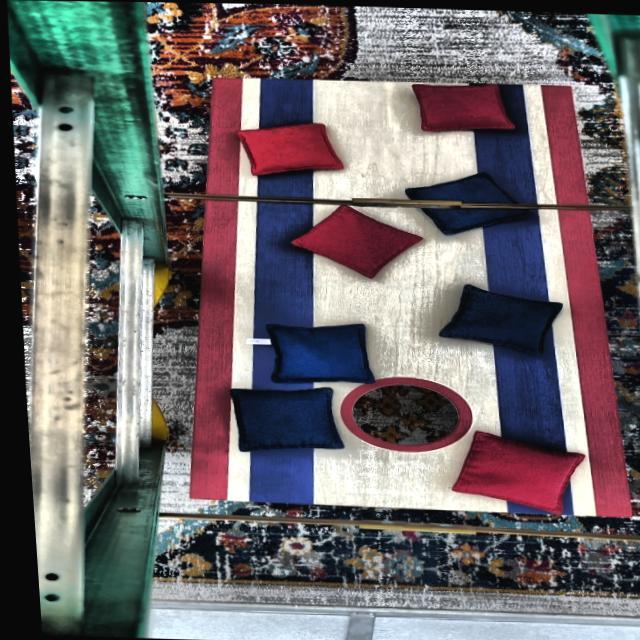blue-bean-bag: (430, 282, 561, 354), (221, 383, 342, 454), (400, 170, 530, 236), (260, 320, 370, 384)
board: (203, 77, 591, 513)
hole: (329, 373, 470, 453)
red-bean-bag: (443, 428, 582, 512), (283, 201, 421, 279), (233, 120, 341, 176), (407, 81, 515, 134)
